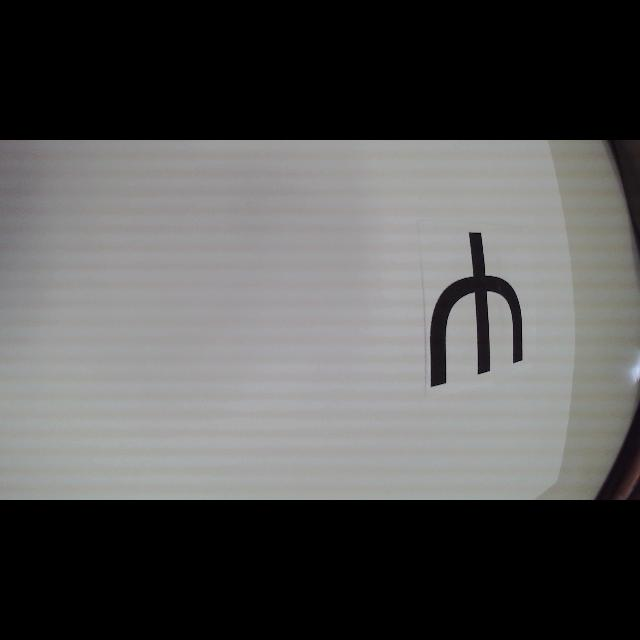PSI: (431, 232, 524, 386)
